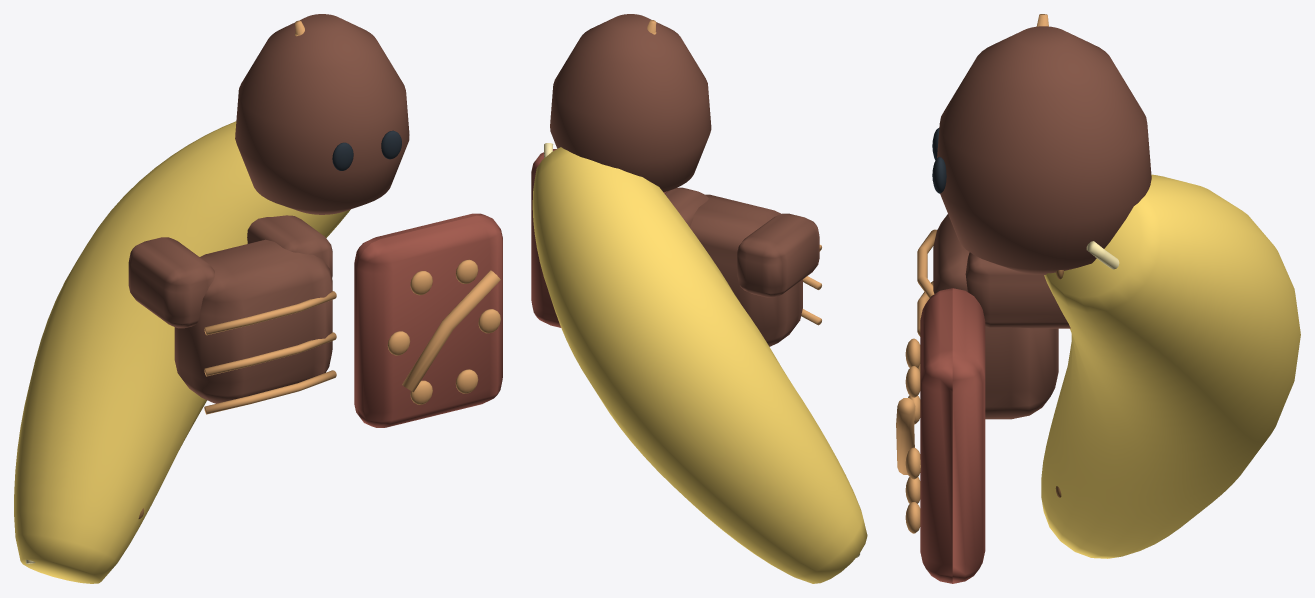
File: K08_Chocolate_Armored_Banana_Knight.glb
3 views of the same model, side by side, from view 1: azimuth 30°, elevation 25°; view 2: azimuth 150°, elevation 25°; view 3: azimuth 270°, elevation 25° (orthographic). The views are drawn at different scales.
Visible parts, largest first — view 1: K08 expressive curved golden banana body, K08 small pointed knight chocolate helm, K08_ARMOR_ACTOR | Tempered dark chocolate knight cuirass, K08 real heraldic shield molded chocolate, K08_SHIELD_ACTOR | Belgian caramel bronze chocolate trim, K08_ARMOR_ACTOR | Belgian caramel bronze chocolate trim, K08_HELMET_ACTOR | Brave knight banana cartoon eye; view 2: K08 expressive curved golden banana body, K08 small pointed knight chocolate helm, K08_ARMOR_ACTOR | Tempered dark chocolate knight cuirass, K08 real heraldic shield molded chocolate; view 3: K08 expressive curved golden banana body, K08 small pointed knight chocolate helm, K08 real heraldic shield molded chocolate, K08_ARMOR_ACTOR | Tempered dark chocolate knight cuirass, K08_SHIELD_ACTOR | Belgian caramel bronze chocolate trim, K08_ARMOR_ACTOR | Belgian caramel bronze chocolate trim, K08_HELMET_ACTOR | Brave knight banana cartoon eye.
Part boxes in pixels (x1,y1,x2,y2): K08 expressive curved golden banana body: [14, 121, 350, 583]; K08 small pointed knight chocolate helm: [235, 14, 409, 214]; K08_ARMOR_ACTOR | Tempered dark chocolate knight cuirass: [128, 215, 332, 403]; K08 real heraldic shield molded chocolate: [354, 213, 502, 427]; K08_SHIELD_ACTOR | Belgian caramel bronze chocolate trim: [387, 259, 500, 404]; K08_ARMOR_ACTOR | Belgian caramel bronze chocolate trim: [204, 291, 336, 414]; K08_HELMET_ACTOR | Brave knight banana cartoon eye: [332, 130, 401, 170]; K08 expressive curved golden banana body: [532, 147, 867, 583]; K08 small pointed knight chocolate helm: [550, 14, 711, 192]; K08_ARMOR_ACTOR | Tempered dark chocolate knight cuirass: [664, 187, 819, 346]; K08 real heraldic shield molded chocolate: [531, 149, 666, 327]; K08 expressive curved golden banana body: [1041, 174, 1300, 558]; K08 small pointed knight chocolate helm: [937, 26, 1151, 274]; K08 real heraldic shield molded chocolate: [920, 288, 985, 583]; K08_ARMOR_ACTOR | Tempered dark chocolate knight cuirass: [933, 214, 1070, 419]; K08_SHIELD_ACTOR | Belgian caramel bronze chocolate trim: [896, 338, 920, 533]; K08_ARMOR_ACTOR | Belgian caramel bronze chocolate trim: [917, 229, 936, 372]; K08_HELMET_ACTOR | Brave knight banana cartoon eye: [932, 128, 946, 193].
Bounding box in the file's own units: 1.37 × 1.69 × 0.936.
